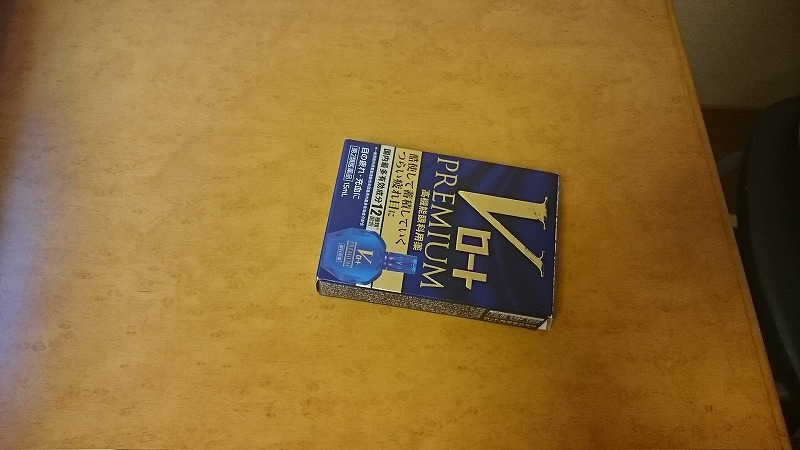D: (307, 133, 572, 340)
